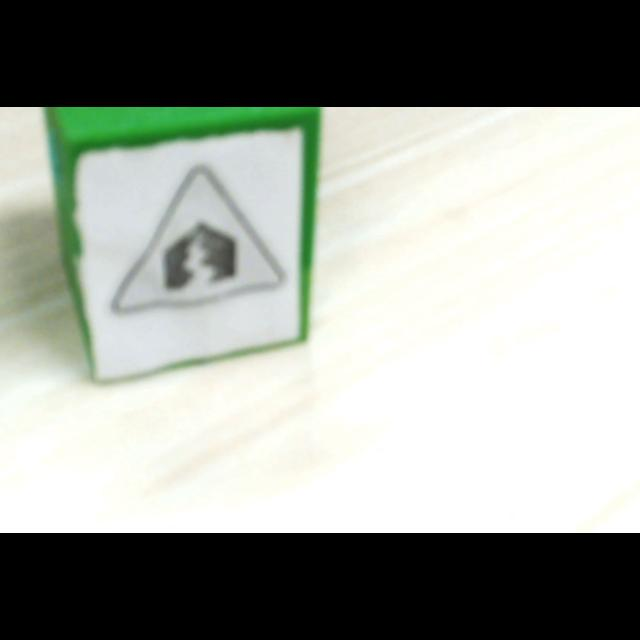Earthquake: (111, 163, 286, 315)
